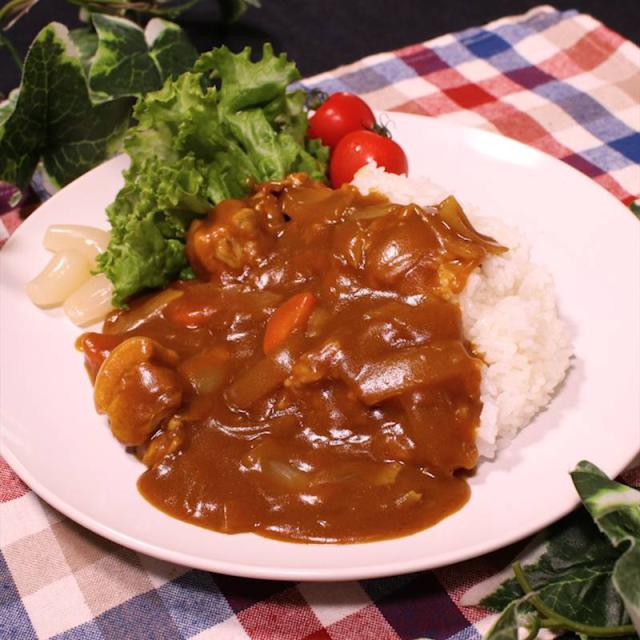Wet: (79, 164, 578, 546)
